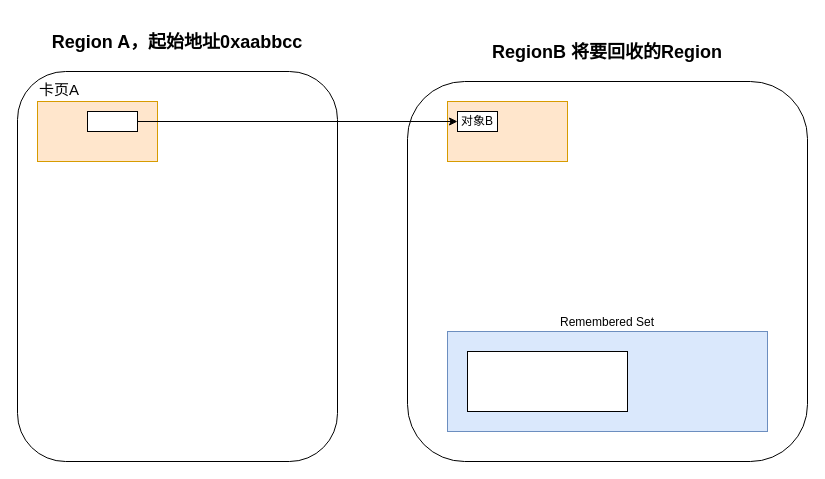
Some shapes in this 825 by 479 pixel diagram are drawn without their labels. Here are the shapes that lost their labels. From the top down, the centre of each, then its label:
the point at 112,121: 对象A
the point at 547,381: key:0xaabbcc，value:[卡页A的地址]
